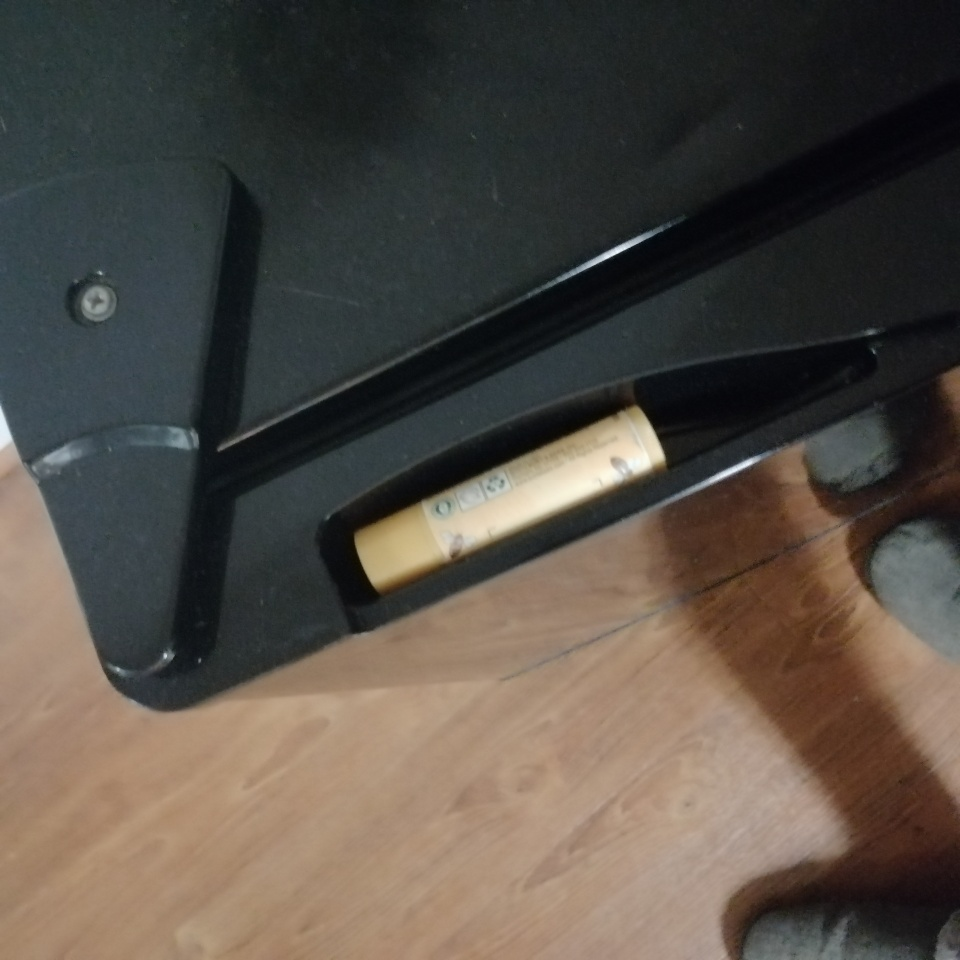chapstick: (353, 402, 674, 595)
